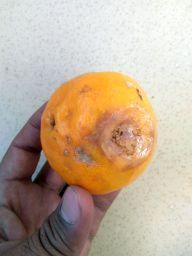Unripe: (40, 73, 157, 195)
